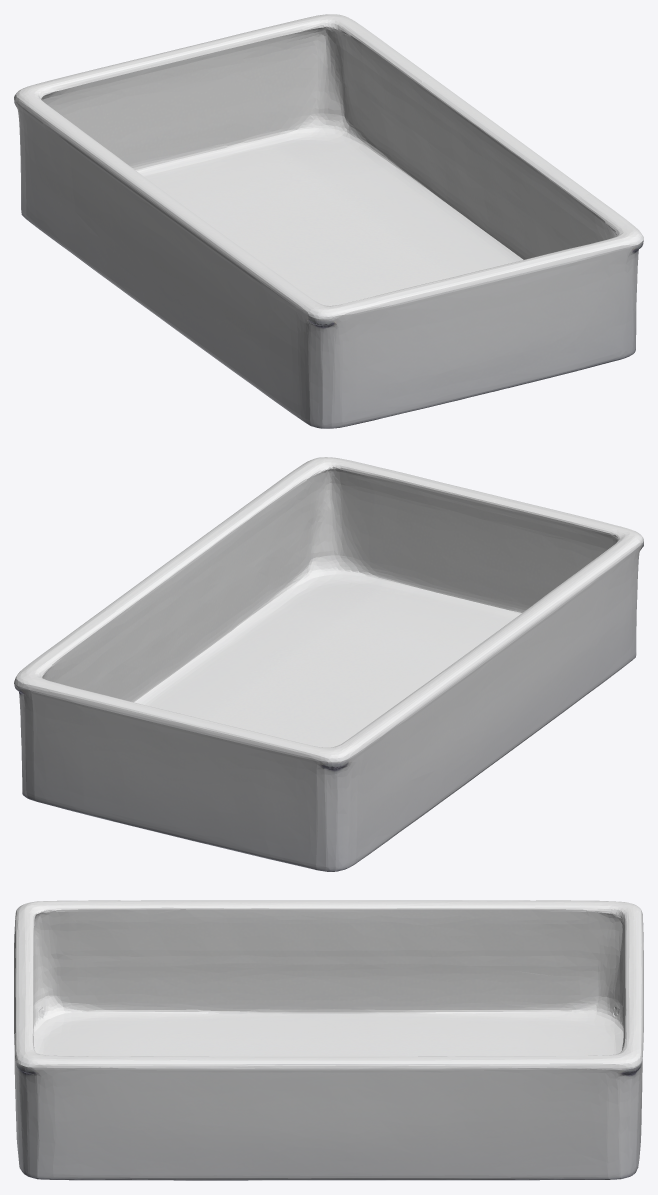
The picture shows the model from 3 angles, top to bottom: view 1: azimuth 30°, elevation 25°; view 2: azimuth 150°, elevation 25°; view 3: azimuth 270°, elevation 25°; orthographic projection.
Visible parts, largest first — view 1: world; view 2: world; view 3: world.
Boxes of the visible parts, bbox=[...] form: world: bbox=[14, 14, 643, 428]; world: bbox=[14, 457, 643, 871]; world: bbox=[14, 900, 643, 1180].
Bounding box in the file's own units: 0.622 × 0.2115 × 0.9999.
Materials: 1 (1 with a texture image).
